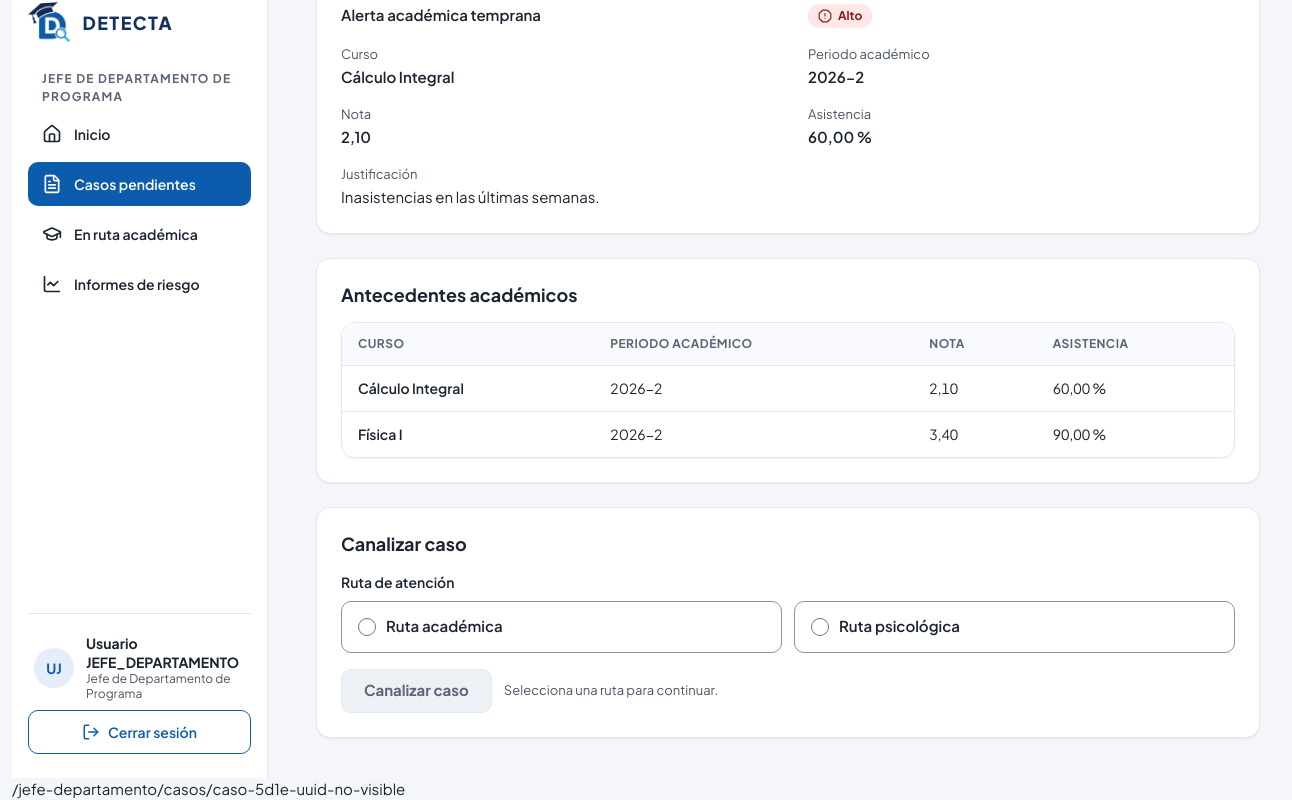
Test case: Canalización del caso (CUD04) › la ruta no tiene valor por defecto y «Canalizar caso» espera la elección (ajuste A)
(page scrolled)
Expected: the button "Canalizar caso" is disabled, [341, 669, 492, 713]
Expected: the radio button labelled "Ruta psicológica" is not checked, [811, 618, 829, 636]
Step 1. Click the radio button labelled "Ruta académica" → click(367, 627), box [358, 618, 376, 636]
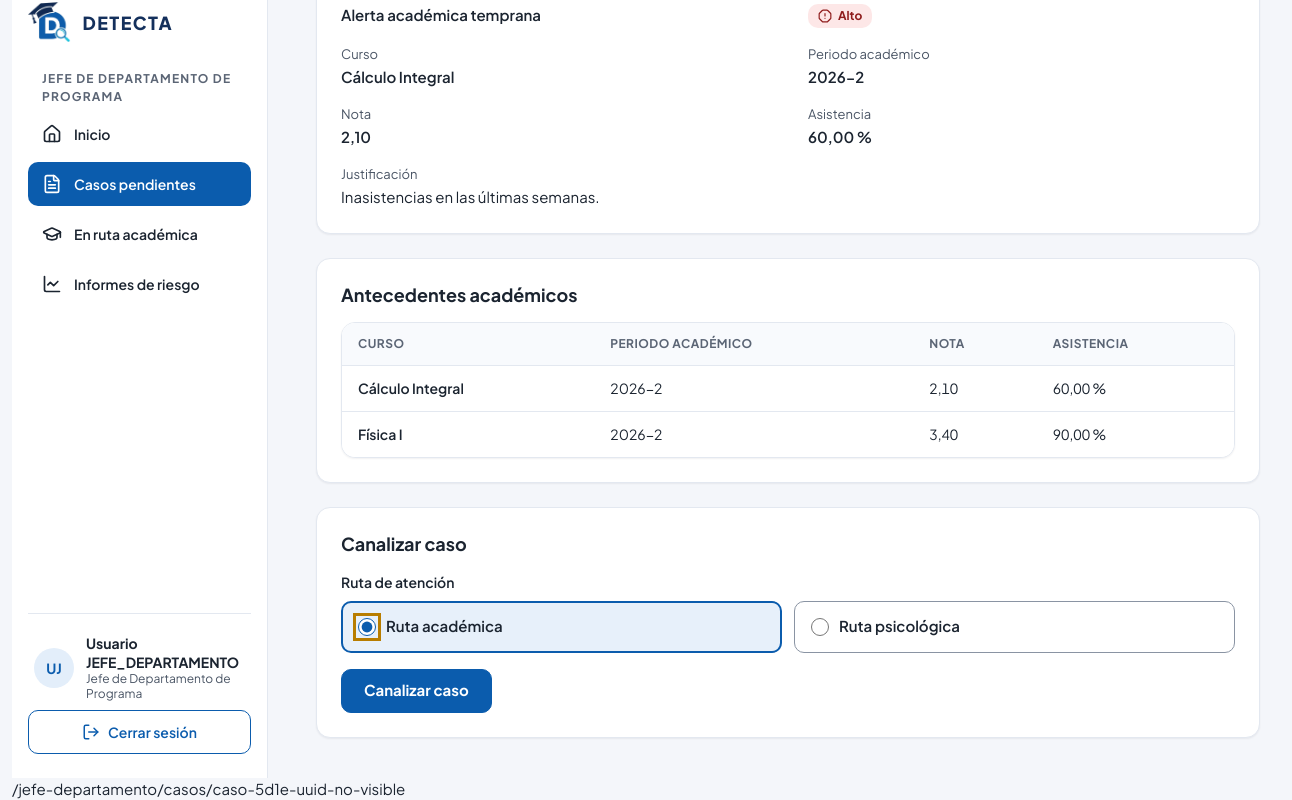
Expected: the button "Canalizar caso" is enabled, [341, 669, 492, 713]
